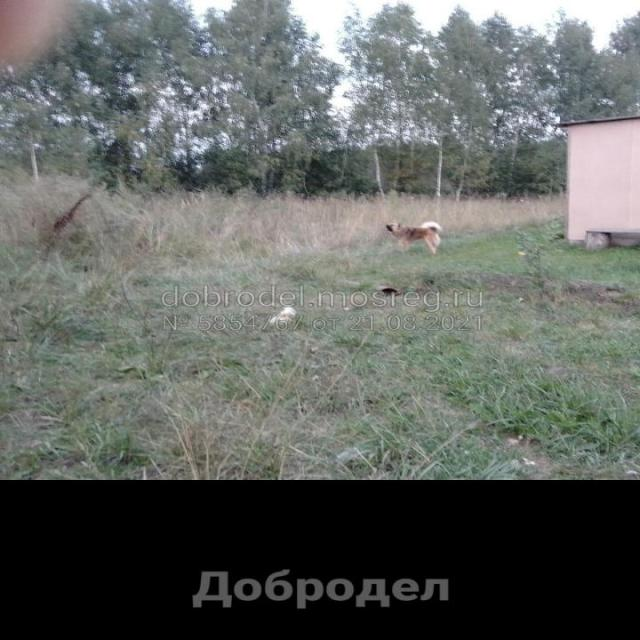dog: (380, 216, 446, 262)
